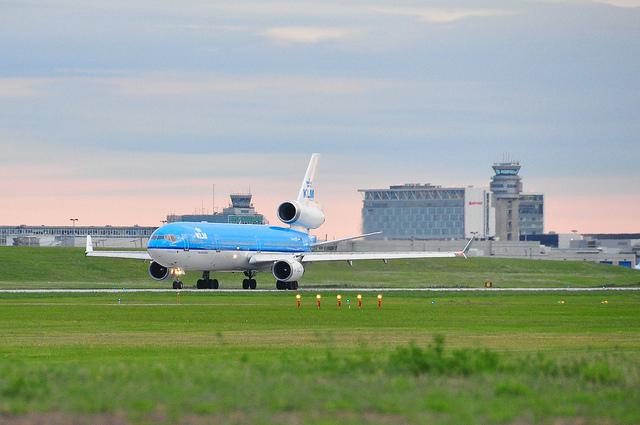Airplane: (147, 154, 476, 291)
